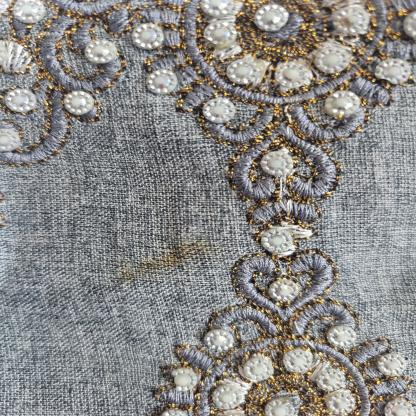spot: (84, 227, 227, 310)
